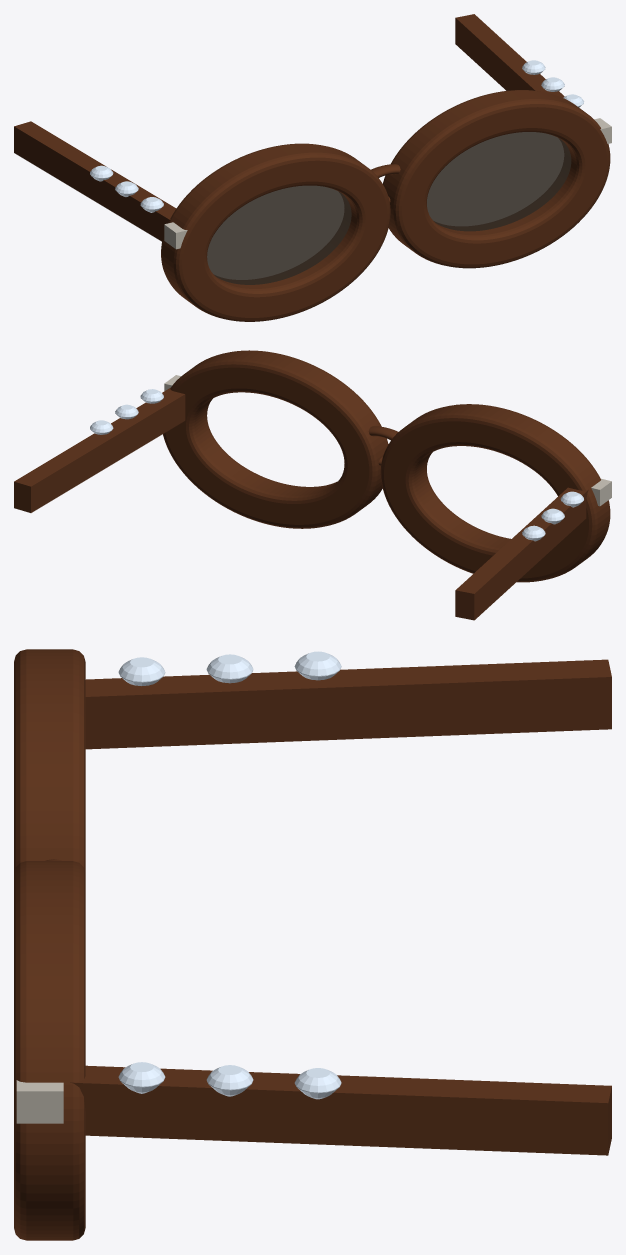
The model's file is sunglasses.glb.
3 renders of one model, top to bottom at view 1: azimuth 30°, elevation 25°; view 2: azimuth 150°, elevation 25°; view 3: azimuth 270°, elevation 25°, orthographic. The views are drawn at different scales.
Parts seen in each view (by area): view 1: SetDiamonde Acetate Eyewear — exploratory concept; view 2: SetDiamonde Acetate Eyewear — exploratory concept; view 3: SetDiamonde Acetate Eyewear — exploratory concept.
Part boxes in pixels (left/top/right/bottom): SetDiamonde Acetate Eyewear — exploratory concept: left=14, top=14, right=611, bottom=321; SetDiamonde Acetate Eyewear — exploratory concept: left=14, top=350, right=611, bottom=620; SetDiamonde Acetate Eyewear — exploratory concept: left=14, top=649, right=611, bottom=1240.
Bounding box in the file's own units: 3.81 × 1.27 × 2.17.
